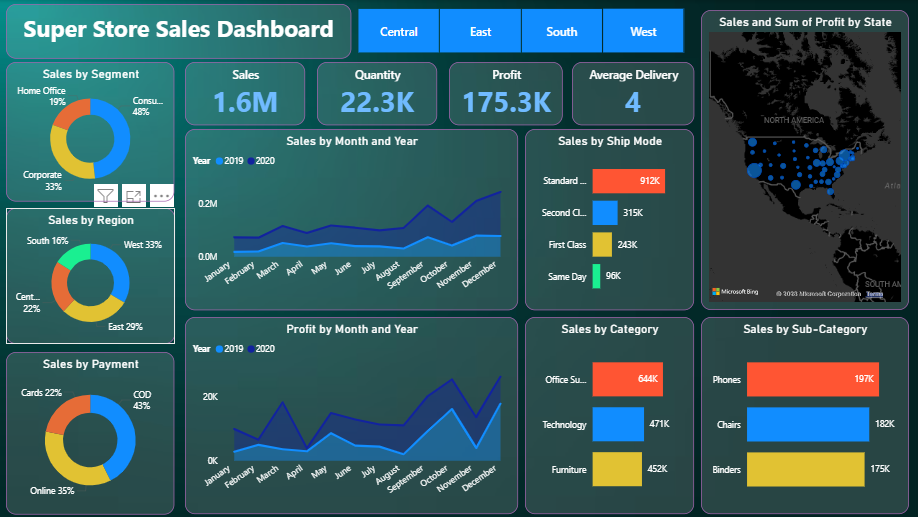

The page's visual inventory and layout, read from the dashboard file:
{"tool":"powerbi","page":{"name":"Dashboard","canvas":[1280,720],"ordinal":0},"visuals":[{"type":"clusteredBarChart","title":"Sales by Category","fields":{"Category":["Sheet1.Category"],"Y":["Sum(Sheet1.Sales)"]},"box":[731.1,440.6,234.9,273.8],"z":0},{"type":"clusteredBarChart","title":"Sales by Sub-Category","fields":{"Y":["Sum(Sheet1.Sales)"],"Category":["Sheet1.Sub-Category"]},"box":[975.7,440,288.6,274.3],"z":1000},{"type":"clusteredBarChart","title":"Sales by Ship Mode","fields":{"Category":["Sheet1.Ship Mode"],"Y":["Sum(Sheet1.Sales)"]},"box":[731.1,179.3,234.9,251.6],"z":2000},{"type":"stackedAreaChart","title":"Sales by Month and Year","fields":{"Category":["Sheet1.Order Date.Variation.Date Hierarchy.Month"],"Y":["Sum(Sheet1.Sales)"],"Series":["Sheet1.Order Date.Variation.Date Hierarchy.Year"]},"box":[258.5,179.3,462.9,251.6],"z":3000},{"type":"stackedAreaChart","title":"Profit by Month and Year","fields":{"Category":["Sheet1.Order Date.Variation.Date Hierarchy.Month"],"Series":["Sheet1.Order Date.Variation.Date Hierarchy.Year"],"Y":["Sum(Sheet1.Profit)"]},"box":[258.5,440.6,462.9,273.8],"z":4000},{"type":"donutChart","title":"Sales by Region","fields":{"Category":["Sheet1.Region"],"Y":["Sum(Sheet1.Sales)"]},"box":[9.7,289.1,234.9,189],"z":5000},{"type":"donutChart","title":"Sales by Payment","fields":{"Y":["Sum(Sheet1.Sales)"],"Category":["Sheet1.Payment Mode"]},"box":[10,488.6,234.3,225.7],"z":6000},{"type":"slicer","fields":{"Values":["Sheet1.Region"]},"box":[474.3,5.7,501.4,74.3],"z":7000},{"type":"textbox","box":[10,5.7,480,75.7],"z":8000},{"type":"card","title":"Sales","fields":{"Values":["Sum(Sheet1.Sales)"]},"box":[258.5,86.2,166.8,87.6],"z":9000},{"type":"card","title":"Quantity","fields":{"Values":["Sum(Sheet1.Quantity)"]},"box":[442,86.2,166.8,87.6],"z":10000},{"type":"card","title":"Profit","fields":{"Values":["Sum(Sheet1.Profit)"]},"box":[625.5,86.2,158.5,87.6],"z":11000},{"type":"map","title":" Sales and Sum of Profit by State","fields":{"Category":["Sheet1.State"],"Size":["Sum(Sheet1.Sales)"]},"box":[975.8,13.9,289.1,417],"z":13000},{"type":"donutChart","title":"Sales by Segment","fields":{"Category":["Sheet1.Segment"],"Y":["Sum(Sheet1.Sales)"]},"box":[10,85.7,234.3,194.3],"z":14000},{"type":"card","title":"Average Delivery","fields":{"Values":["Avg(Sheet1.Average Delivery)"]},"box":[796.4,86.2,169.6,87.6],"z":15000}]}

Visuals, with their boxes in screenshot pixels (x1, y1, x2, y2), scaled from the page's 1280x720 canvas onto the 918x517 screenshot:
"Sales by Category" clusteredBarChart: [left=524, top=316, right=693, bottom=513]
"Sales by Sub-Category" clusteredBarChart: [left=700, top=316, right=907, bottom=513]
"Sales by Ship Mode" clusteredBarChart: [left=524, top=129, right=693, bottom=309]
"Sales by Month and Year" stackedAreaChart: [left=185, top=129, right=517, bottom=309]
"Profit by Month and Year" stackedAreaChart: [left=185, top=316, right=517, bottom=513]
"Sales by Region" donutChart: [left=7, top=208, right=175, bottom=343]
"Sales by Payment" donutChart: [left=7, top=351, right=175, bottom=513]
slicer - Sheet1.Region: [left=340, top=4, right=700, bottom=57]
textbox: [left=7, top=4, right=351, bottom=58]
"Sales" card: [left=185, top=62, right=305, bottom=125]
"Quantity" card: [left=317, top=62, right=437, bottom=125]
"Profit" card: [left=449, top=62, right=562, bottom=125]
" Sales and Sum of Profit by State" map: [left=700, top=10, right=907, bottom=309]
"Sales by Segment" donutChart: [left=7, top=62, right=175, bottom=201]
"Average Delivery" card: [left=571, top=62, right=693, bottom=125]
